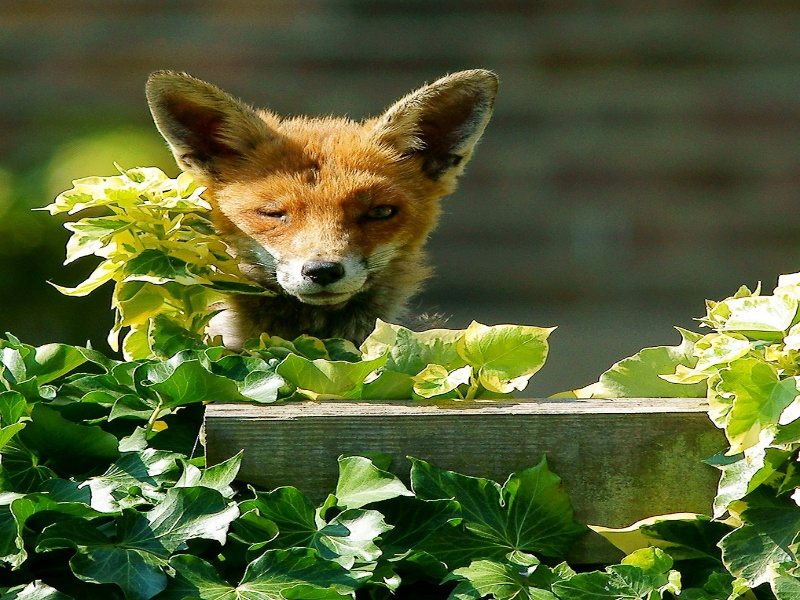fox: (136, 56, 501, 351)
